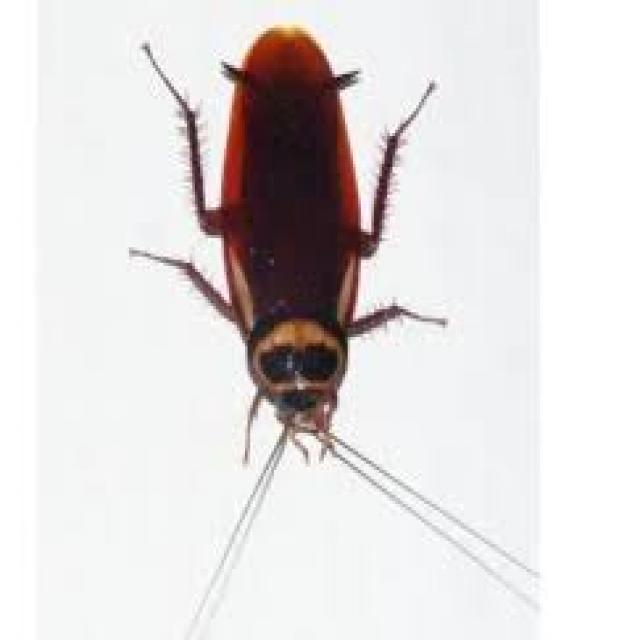Cockroach: (120, 17, 534, 635)
